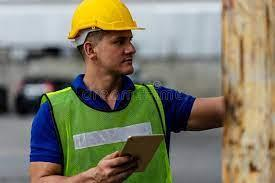hat: (64, 1, 155, 62)
